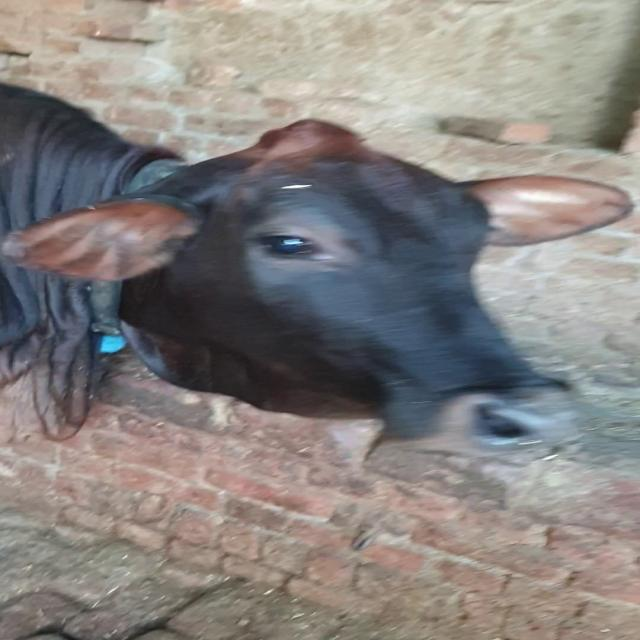cowFace: (222, 132, 581, 471)
